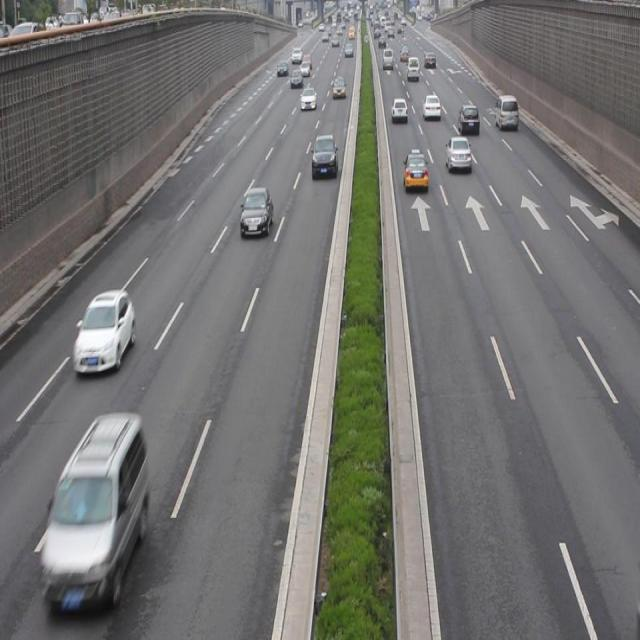car: (72, 289, 134, 376), (238, 185, 273, 238), (310, 134, 337, 178), (403, 151, 428, 192), (446, 136, 471, 172), (458, 103, 479, 136), (422, 93, 440, 120), (391, 95, 408, 123)
truck: (42, 413, 146, 611), (494, 94, 518, 129)
